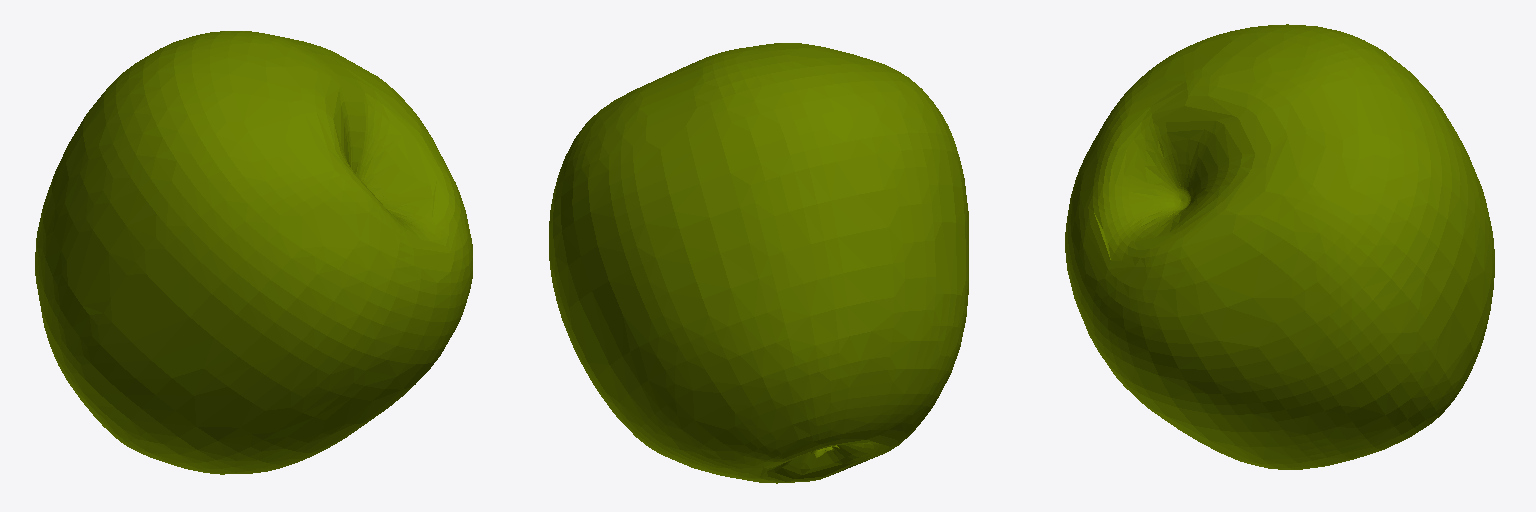
Rendered from one_apple_sm.obj.
The picture shows the model from 3 angles: view 1: azimuth 30°, elevation 25°; view 2: azimuth 150°, elevation 25°; view 3: azimuth 270°, elevation 25°; orthographic projection.
Parts seen in each view (by area): view 1: APLLE018; view 2: APLLE018; view 3: APLLE018.
Boxes of the visible parts, <box> form: APLLE018: <box>35,31,472,474</box>; APLLE018: <box>549,43,968,483</box>; APLLE018: <box>1065,24,1494,469</box>.
Size of the model in its own units: 1.91 by 2.01 by 1.92.